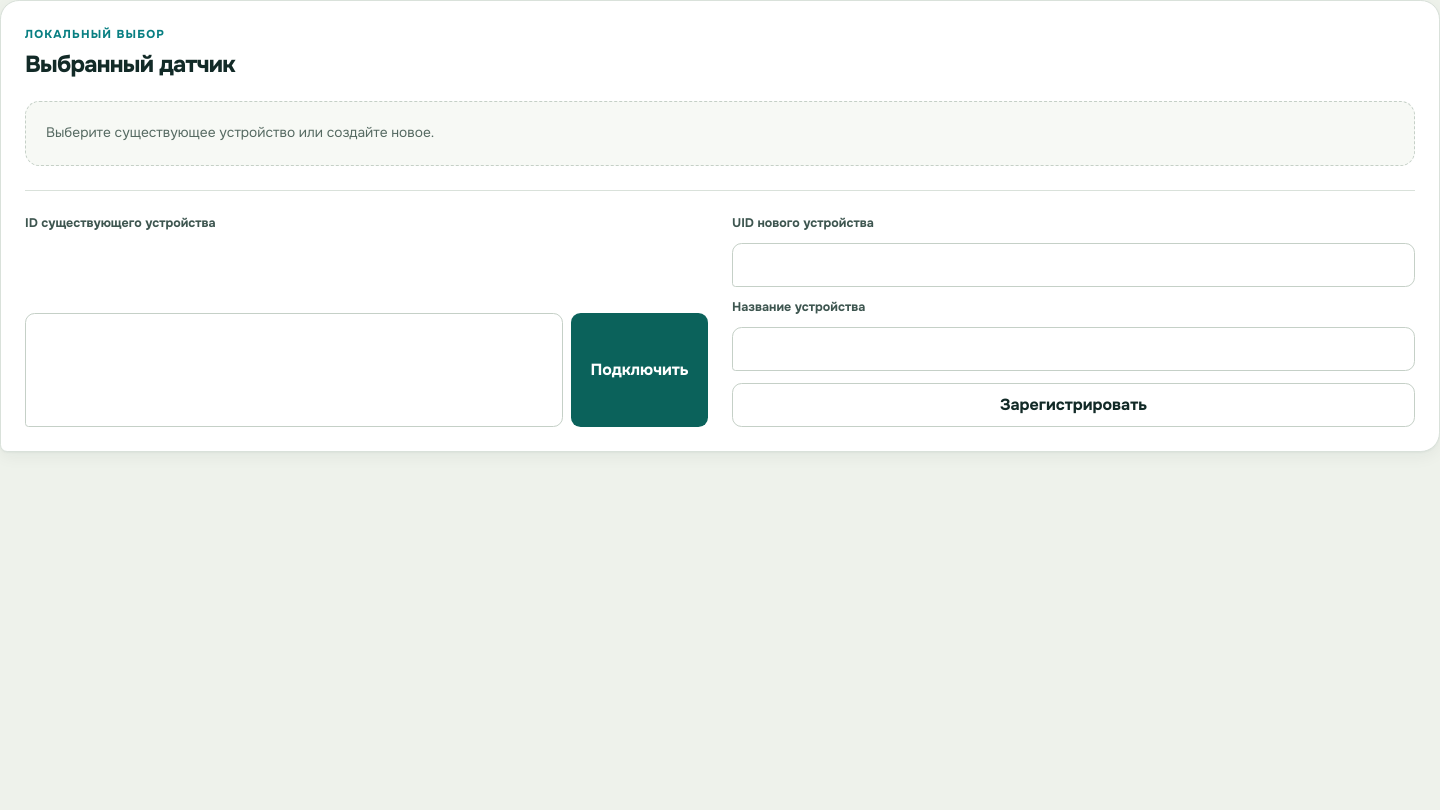
DevicePanel › registers a new active device and selects the returned ID
Type "sensor-42" into the field labelled "UID нового устройства". click: (1074, 265)
box: [732,243,1415,287]
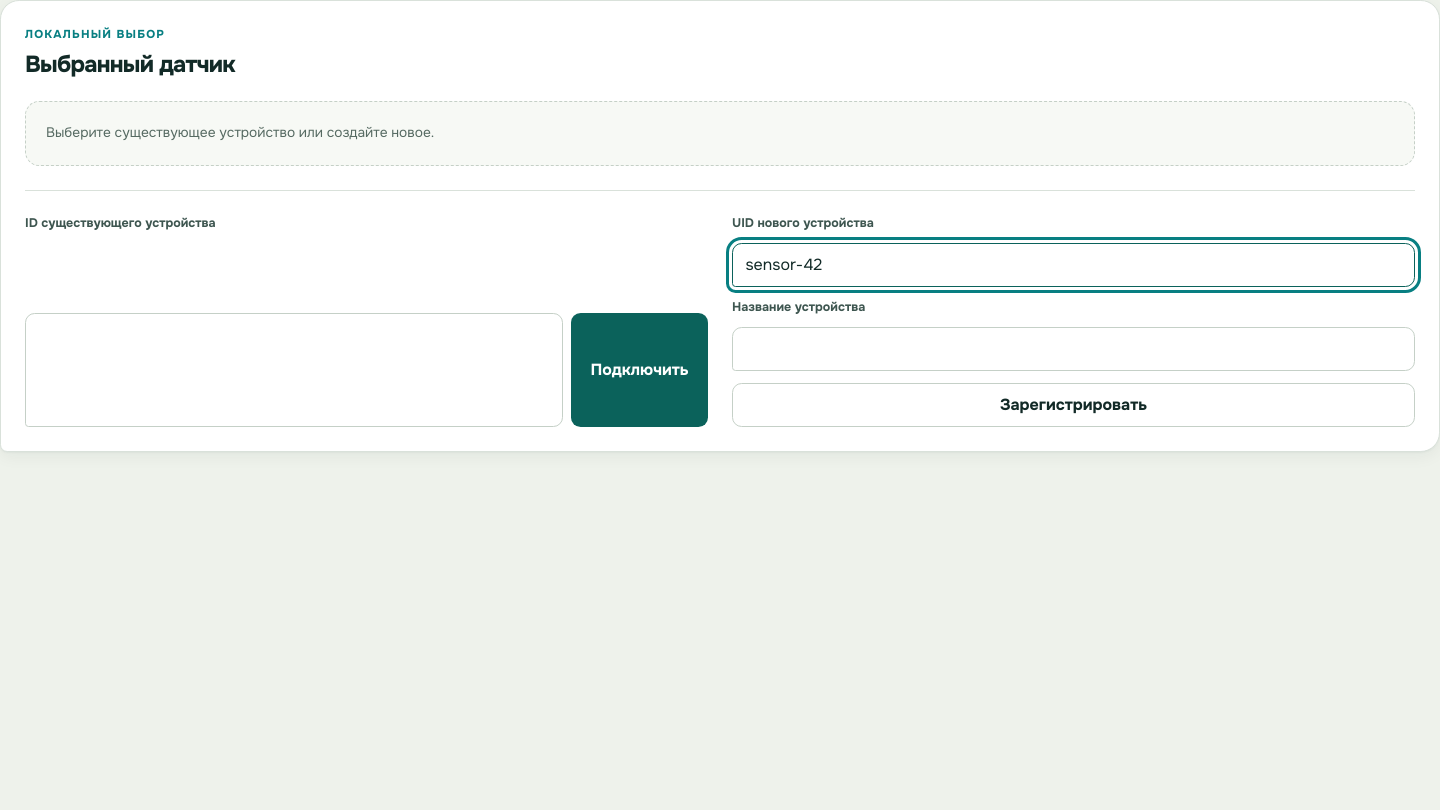
Type "Лаборатория" into the field labelled "Название устройства". click: (1074, 349)
box: [732,327,1415,371]
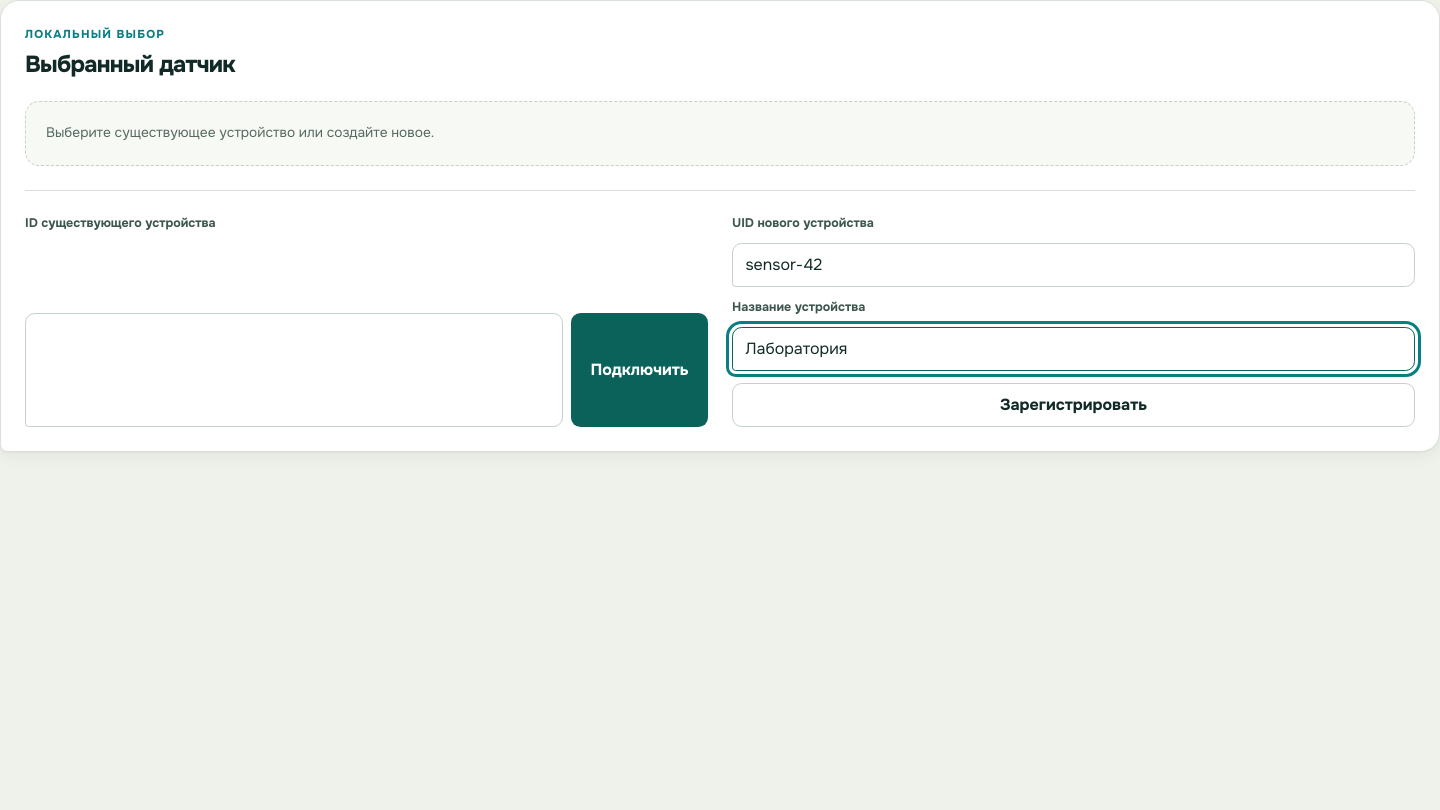
Click the button "Зарегистрировать". click: (1074, 405)
box: [732,383,1415,427]
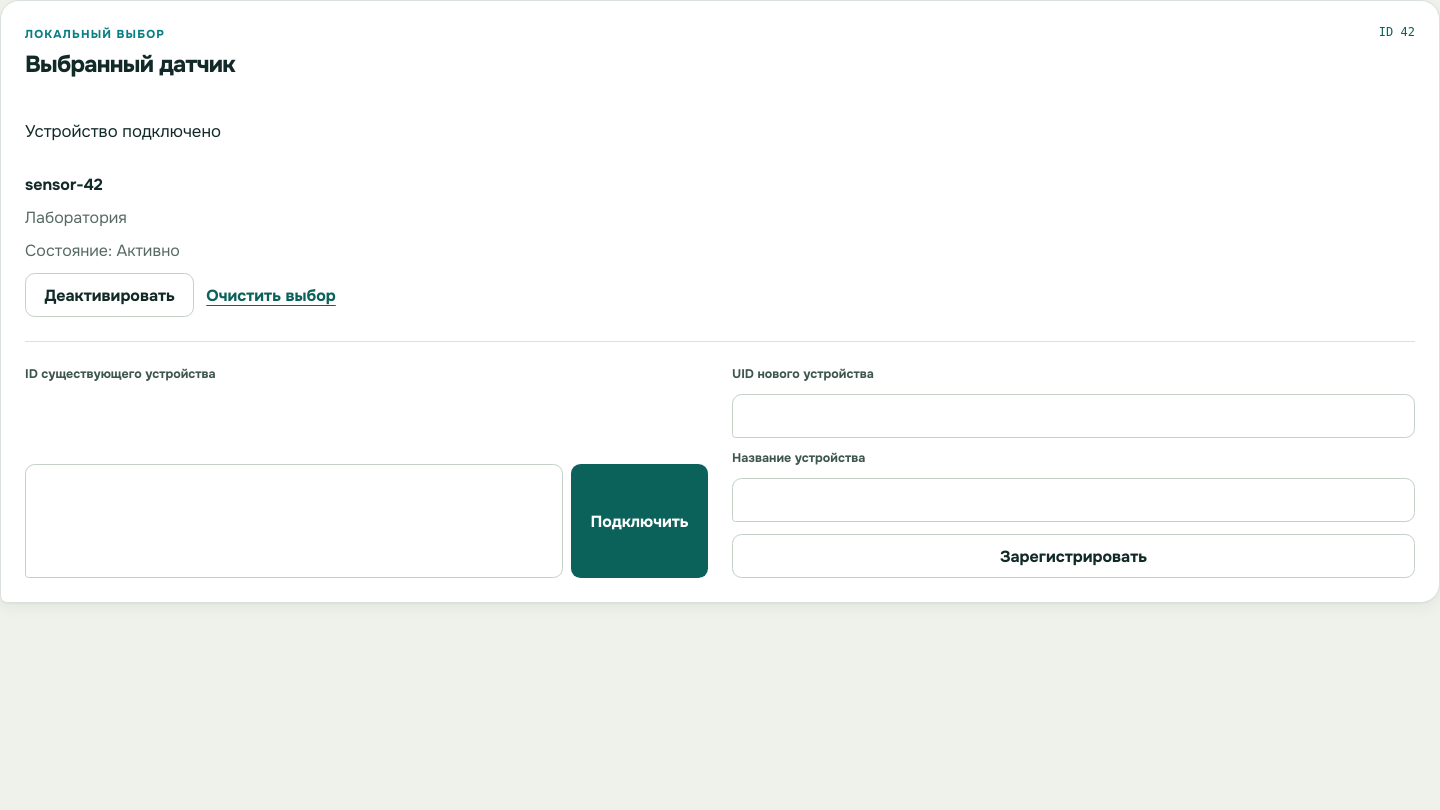
Result: the text "Устройство подключено" is shown at [25,121,221,142]
